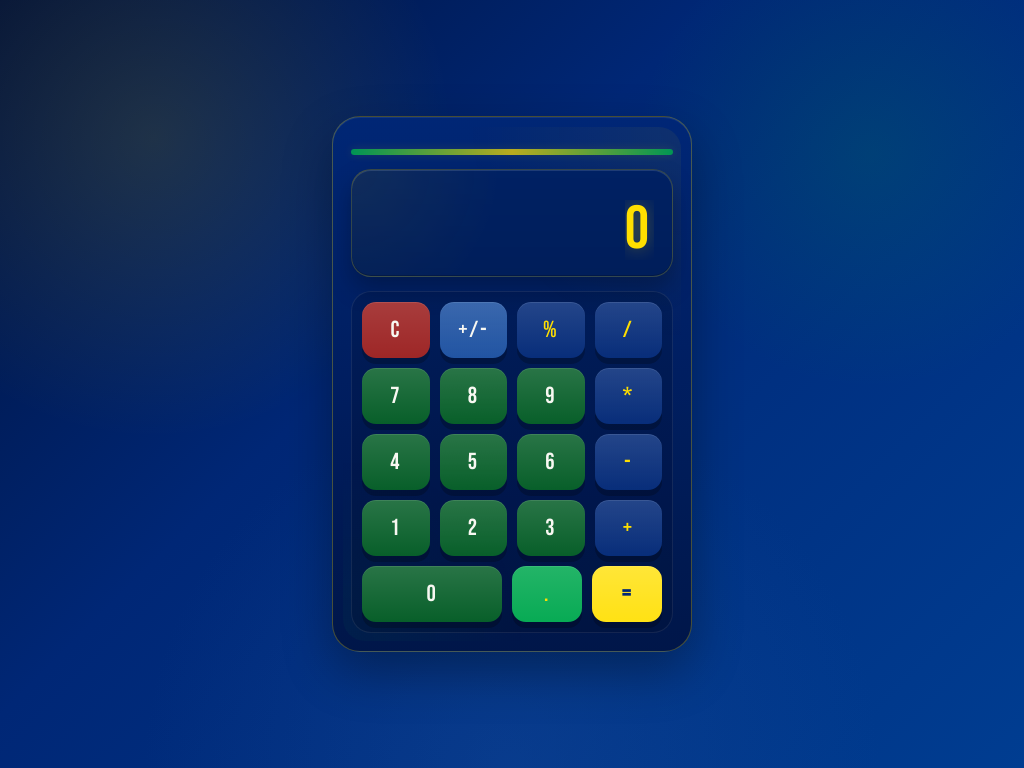
Test: Componente Calculator › suma dos números y muestra el resultado al presionar igual
This screenshot has width=1024, height=768.
Click the button "8" at (473, 396), box [440,368,507,424]
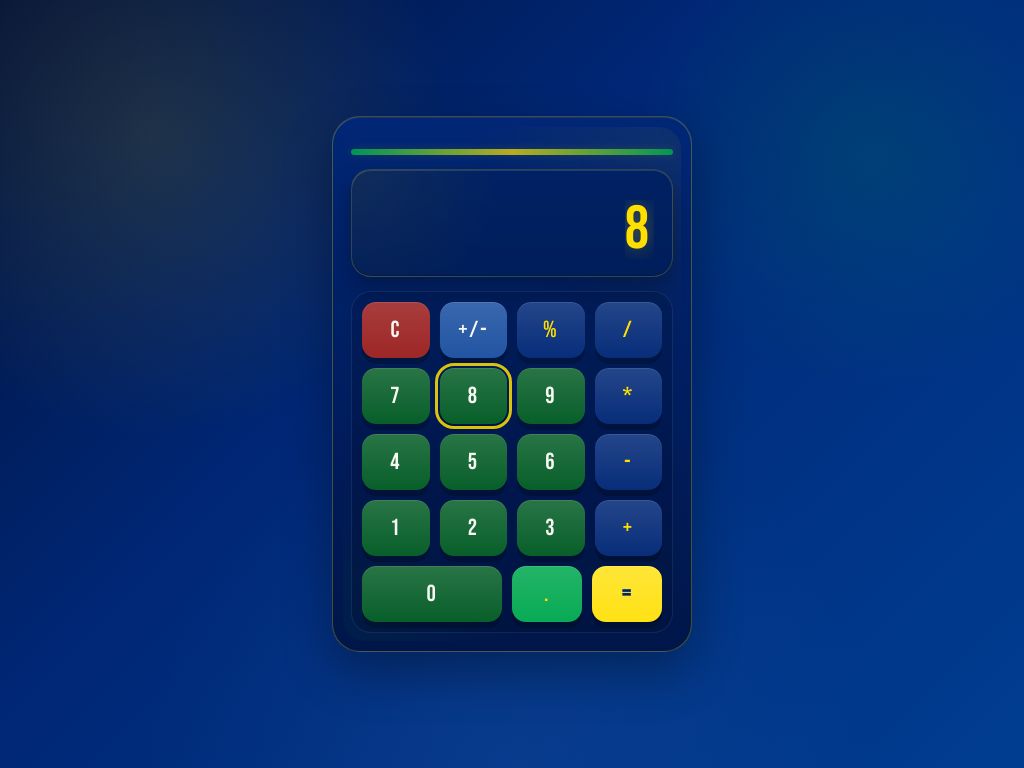
Click the button "+" at (628, 528), box [594,500,662,556]
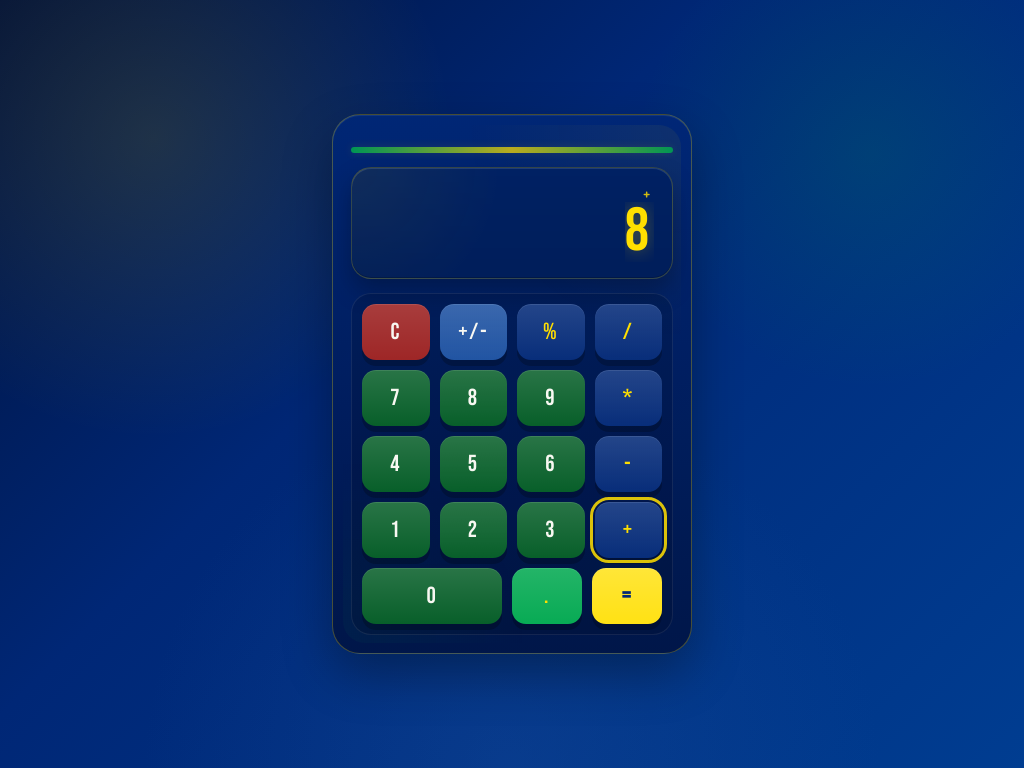
Click the button "4" at (396, 464), box [362,436,430,492]
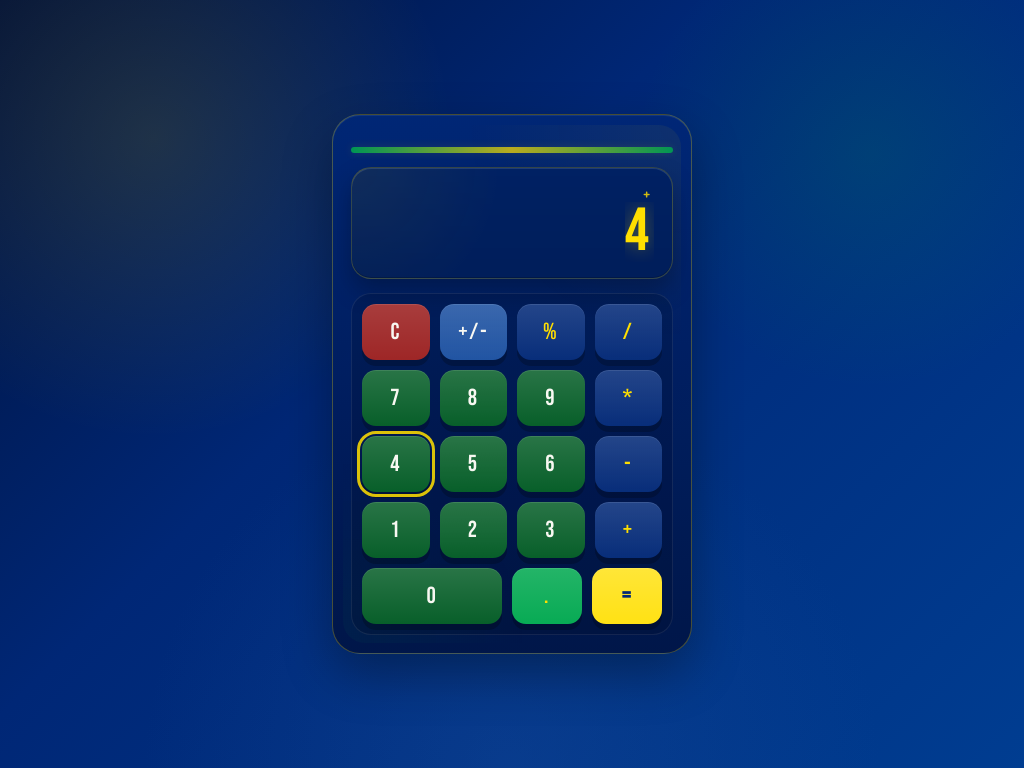
Click the button "=" at (627, 596), box [592,568,662,624]
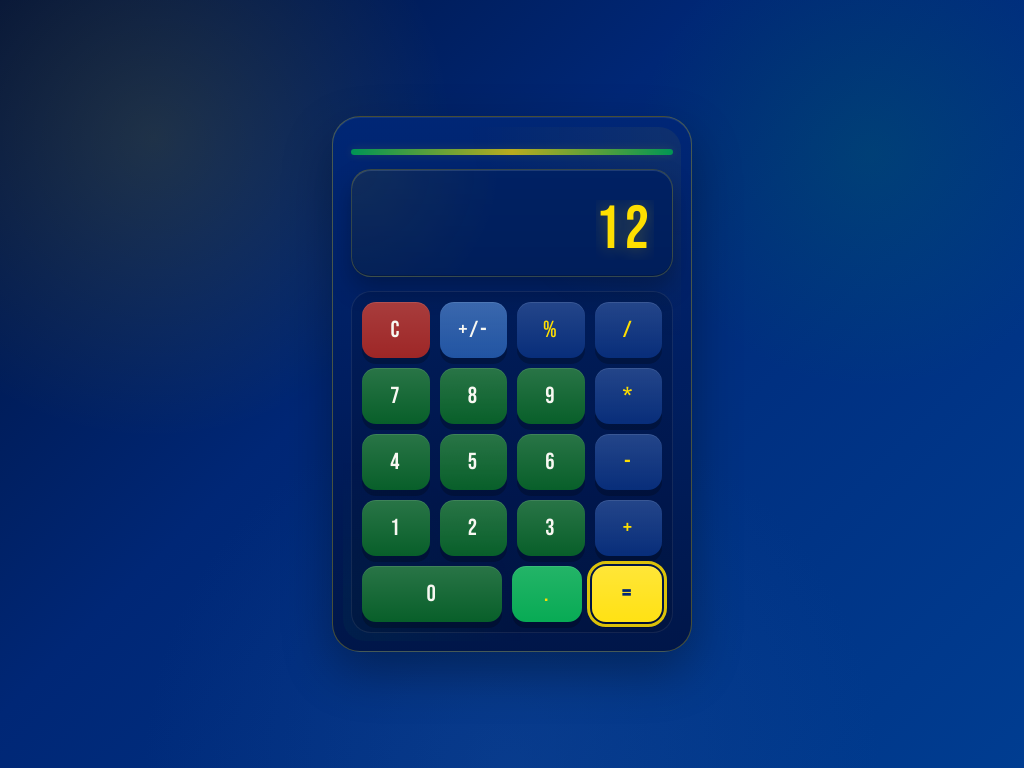
Expected: the message reads "12", [596,193,654,266]
